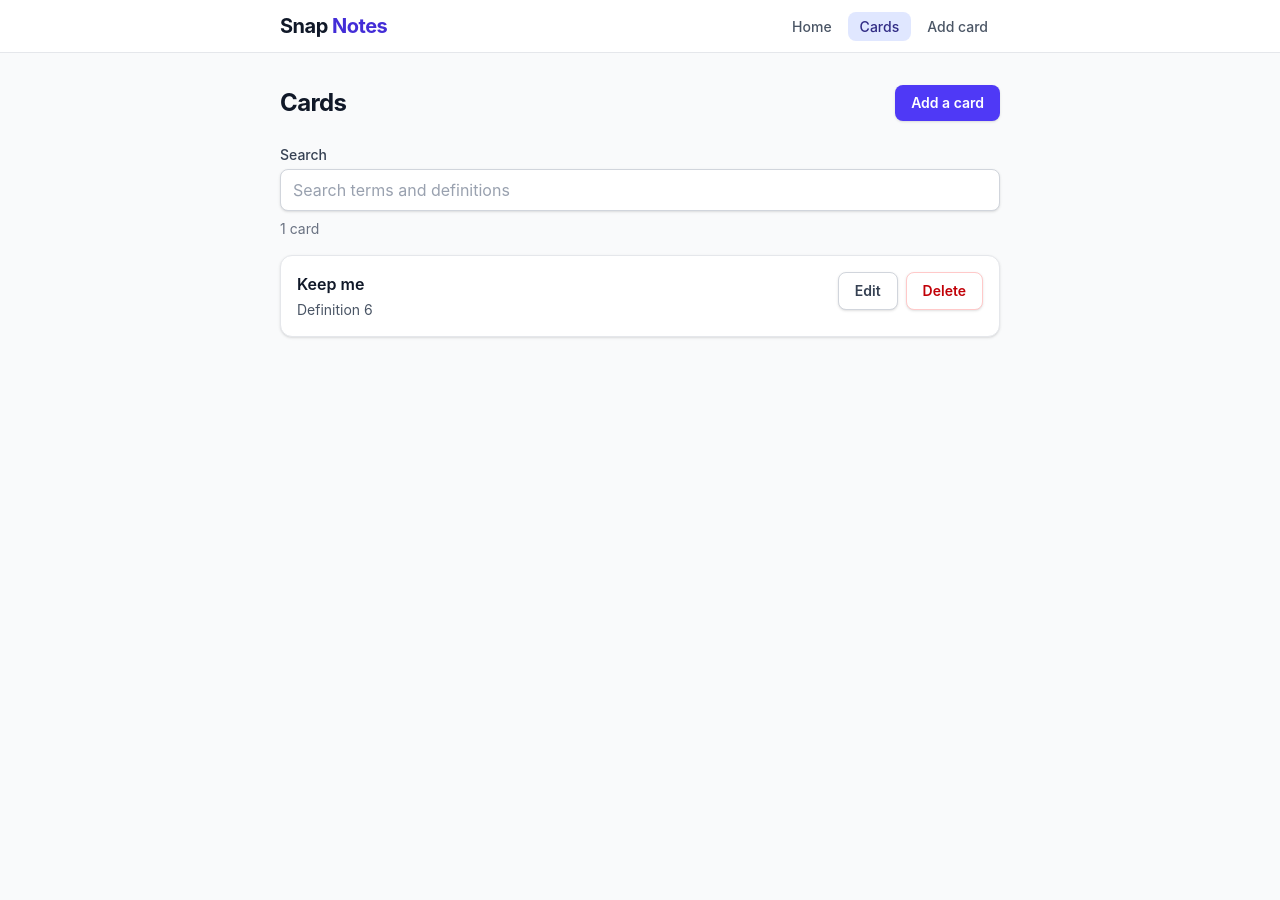
ListPage › asks for confirmation before deleting, and cancel keeps the card
Click the button named "Delete Keep me".
click(944, 291)  # box [906,272,983,310]
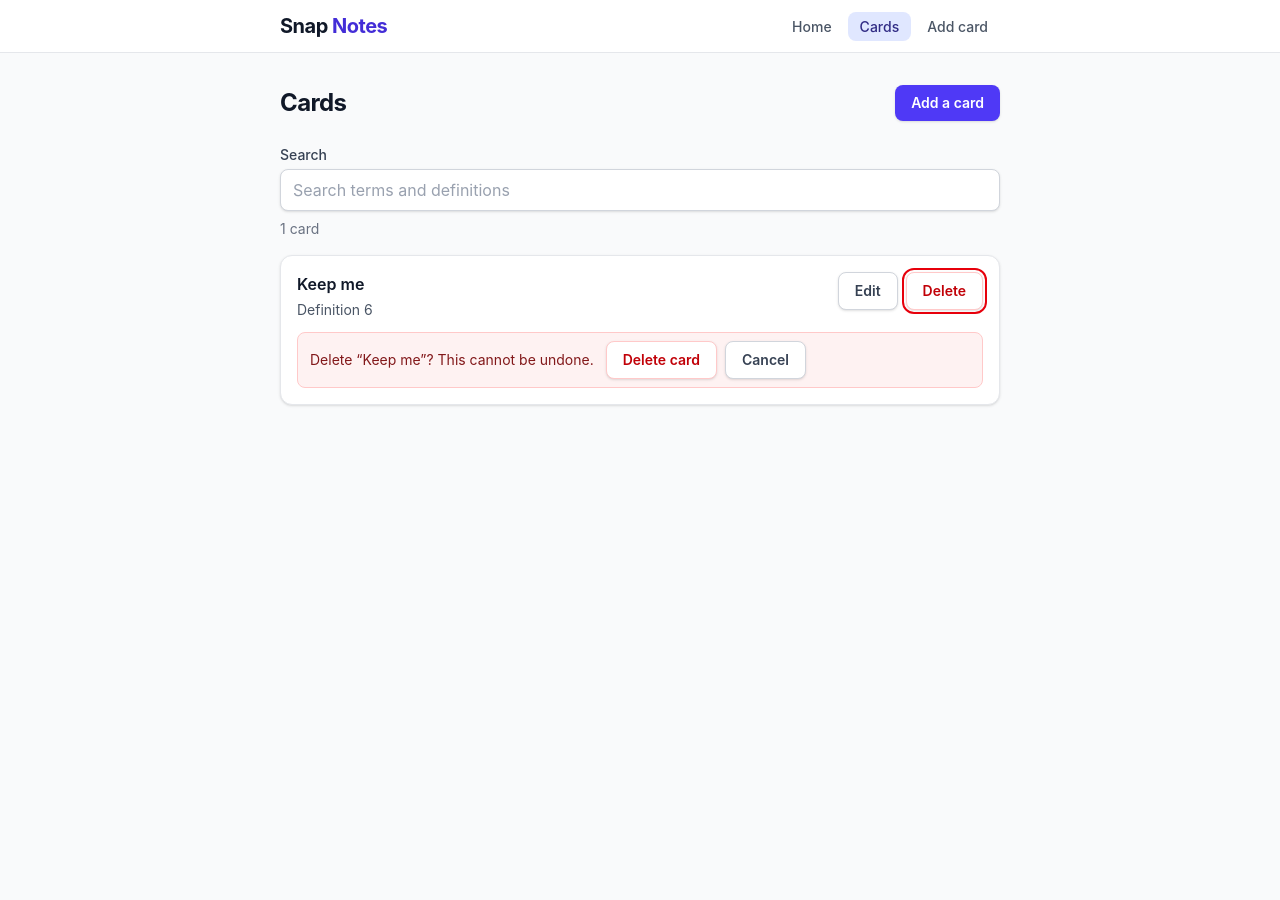
Now the dialog shows "Delete “Keep me”?", box [297,332,983,388]
Click the button "Cancel".
click(766, 360)  # box [725,341,806,379]
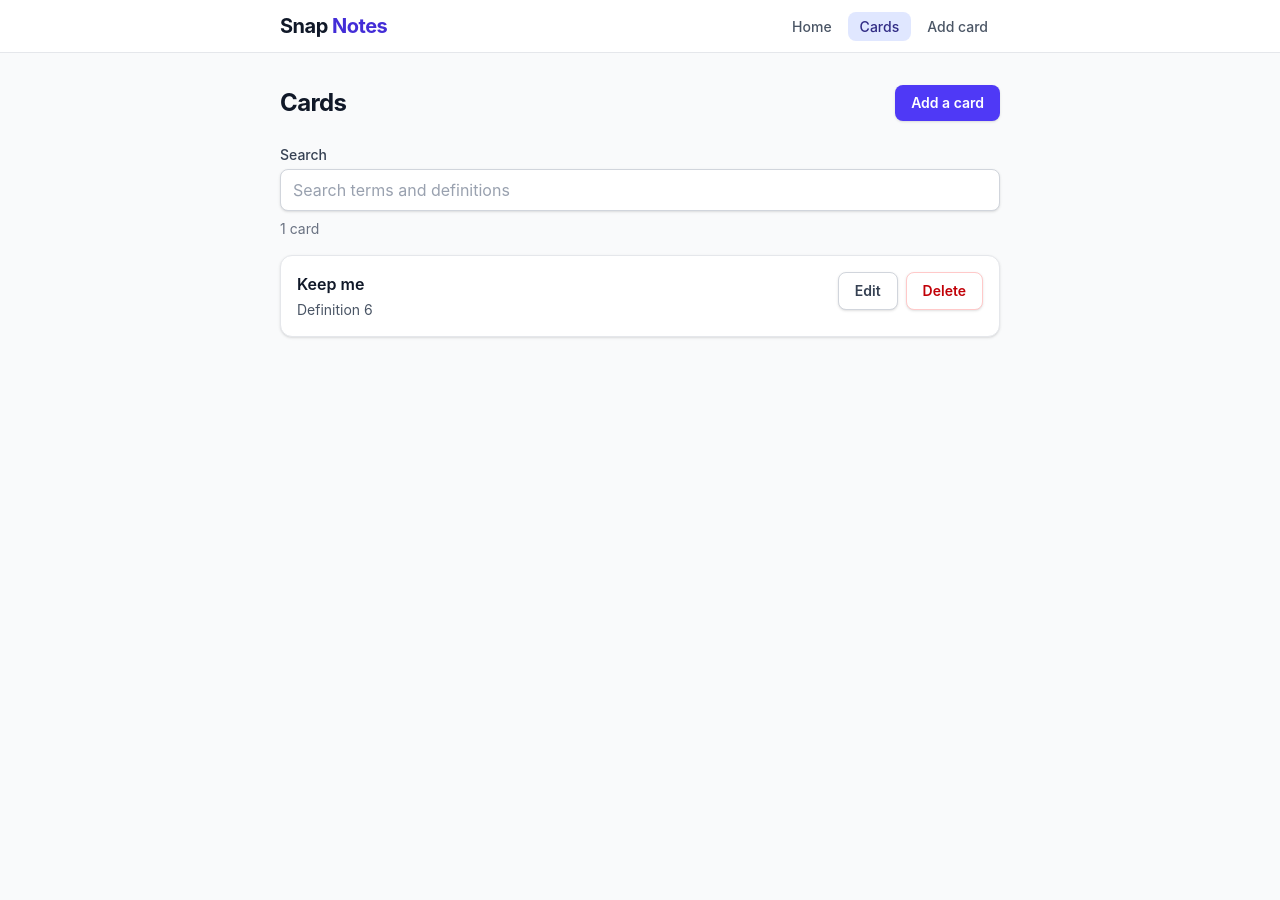
Expected: the heading "Keep me" is shown, [297,272,373,296]
Now the dialog is gone
